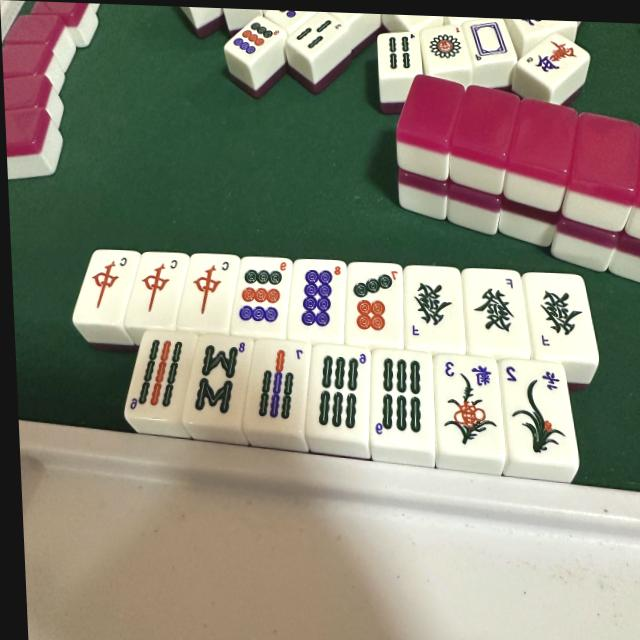bai: (464, 19, 515, 63)
f2: (499, 358, 577, 461)
f3: (435, 357, 503, 451)
fa: (466, 270, 526, 354), (533, 273, 587, 353), (406, 269, 460, 345)
m5: (517, 33, 589, 90)
s3: (288, 12, 344, 57)
s4: (378, 33, 421, 73)
s6: (308, 347, 372, 439), (369, 353, 433, 443)
s7: (246, 337, 312, 429)
s8: (183, 331, 256, 428)
s9: (122, 329, 196, 423)
t1: (418, 23, 470, 75)
t7: (346, 265, 403, 347)
t8: (293, 260, 346, 339)
t9: (230, 259, 289, 337), (224, 16, 282, 67)
zhong: (187, 257, 234, 331), (132, 255, 182, 324), (84, 253, 131, 316)
